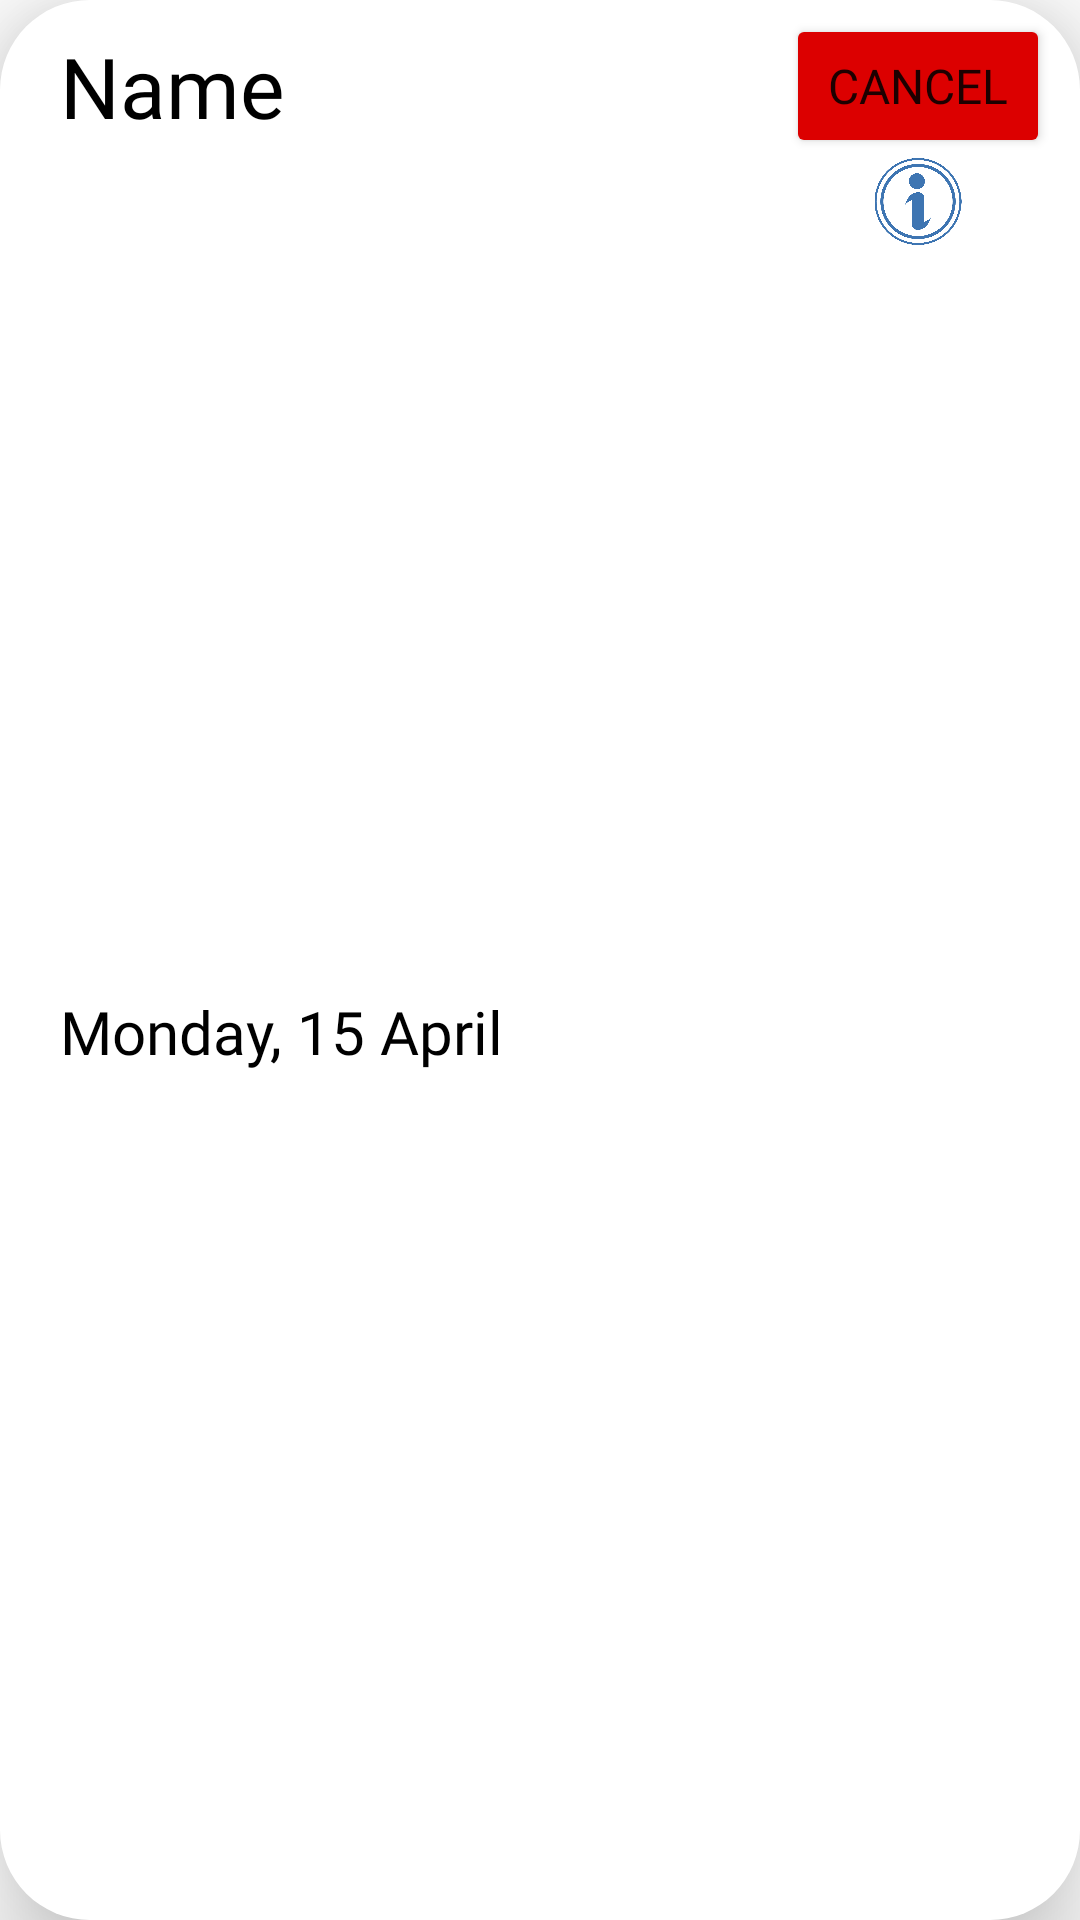

Icon click points for this 1080*1920 phone screenshot, format point (x, y):
bookings details: point (918, 201)
